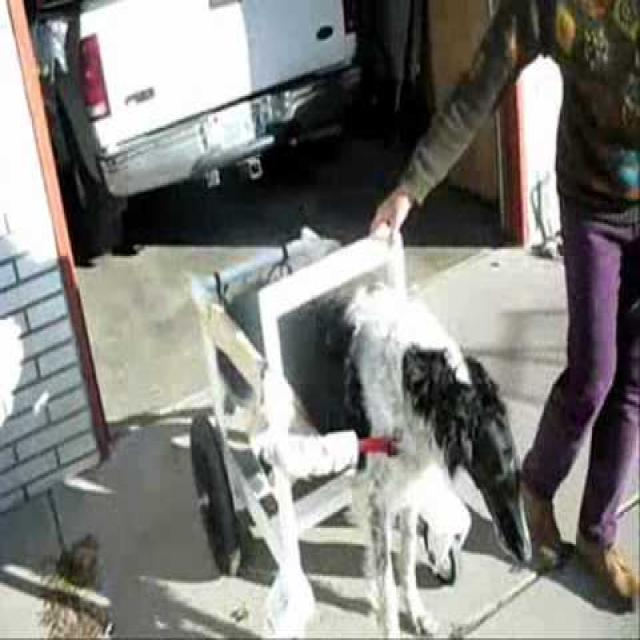dog: (342, 292, 571, 596)
